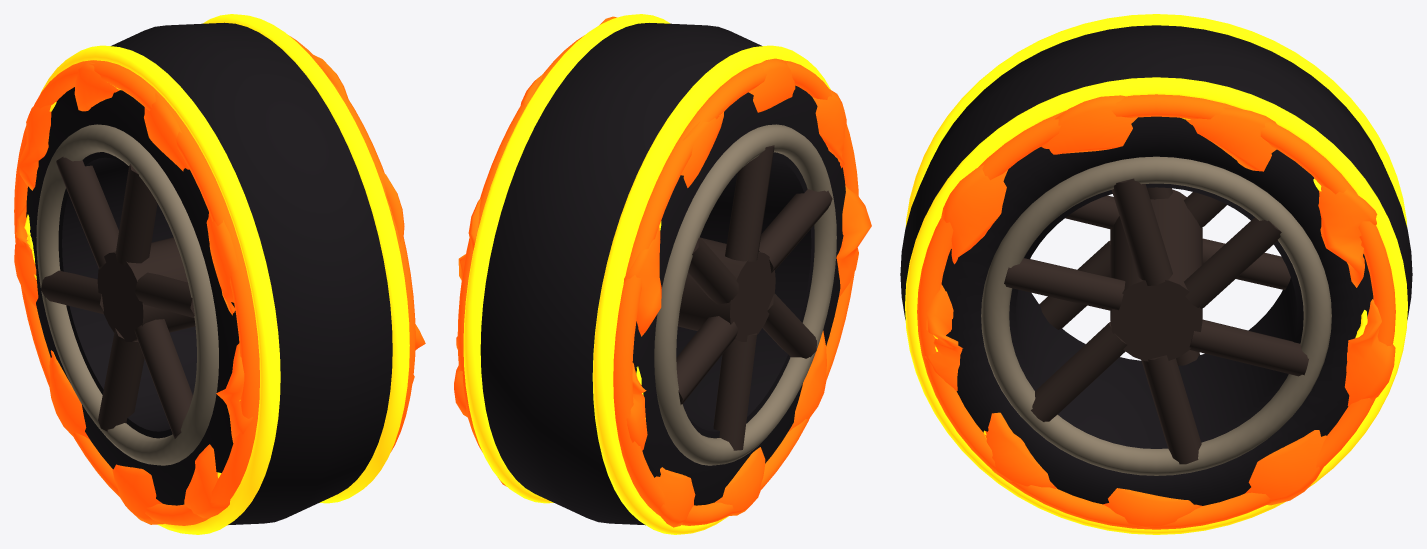
The model's file is A032-FLAME_KART_Wheel_FL_Part_01_0907_515c23fe.glb.
3 views of the same model, side by side, from view 1: azimuth 30°, elevation 25°; view 2: azimuth 150°, elevation 25°; view 3: azimuth 270°, elevation 25° (orthographic).
Visible parts, largest first — view 1: FLAME_KART_Wheel_FL_Part_01; view 2: FLAME_KART_Wheel_FL_Part_01; view 3: FLAME_KART_Wheel_FL_Part_01.
Part boxes in pixels (x1,y1,x2,y2): FLAME_KART_Wheel_FL_Part_01: (14, 14, 425, 534); FLAME_KART_Wheel_FL_Part_01: (454, 14, 871, 534); FLAME_KART_Wheel_FL_Part_01: (900, 14, 1412, 534).
Bounding box in the file's own units: 0.1846 × 0.4 × 0.4.
